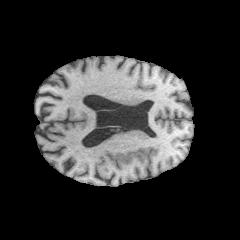glioma: (99, 147, 151, 169)
